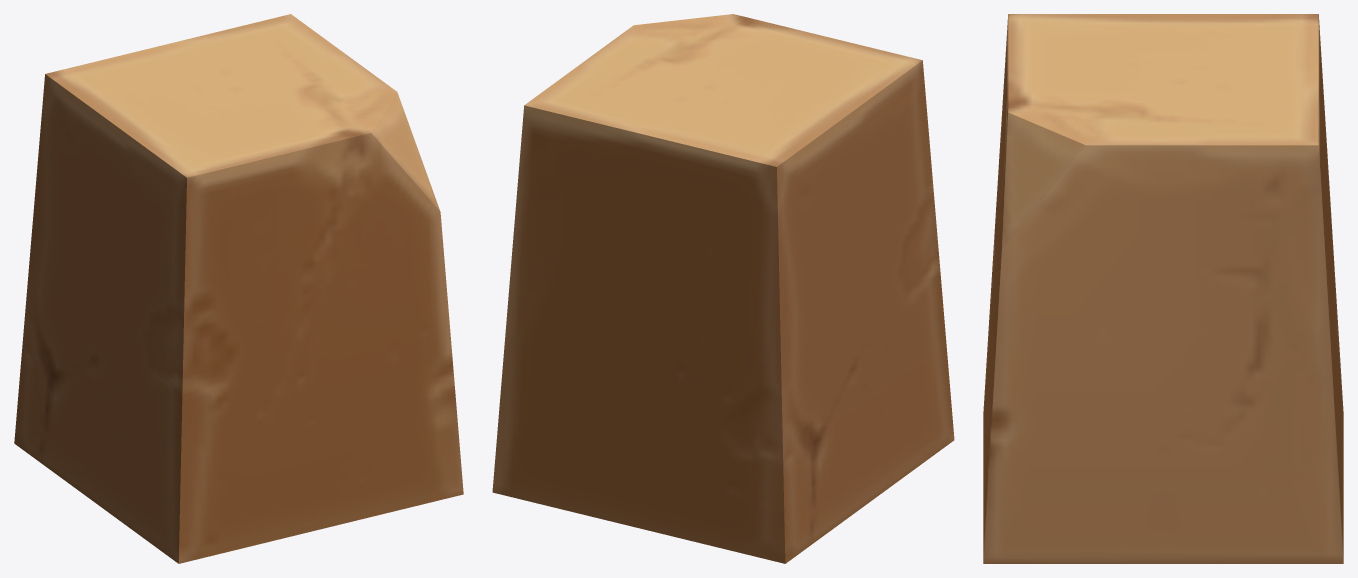
File: Tall Rock_04.fbx
3 renders of one model, left to right at view 1: azimuth 30°, elevation 25°; view 2: azimuth 150°, elevation 25°; view 3: azimuth 270°, elevation 25°, orthographic. The views are drawn at different scales.
Visible parts, largest first — view 1: Tall Rock_04; view 2: Tall Rock_04; view 3: Tall Rock_04.
Boxes of the visible parts, x1,y1,x2,y2 form: Tall Rock_04: (14, 14, 463, 563); Tall Rock_04: (492, 14, 954, 563); Tall Rock_04: (983, 14, 1343, 563).
Size of the model in its own units: 0.0799 by 0.1 by 0.0799.
